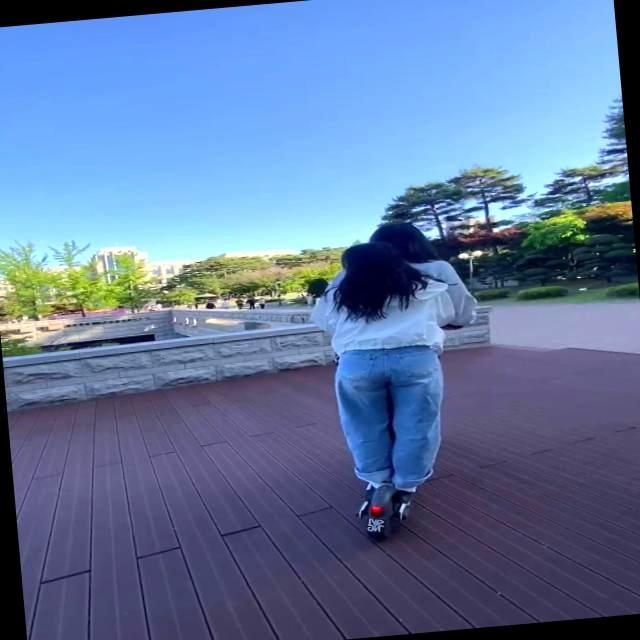bare_head: (335, 240, 410, 289), (364, 219, 432, 264)
human: (334, 217, 469, 461), (317, 248, 448, 495)
kickboard: (335, 466, 434, 536)
